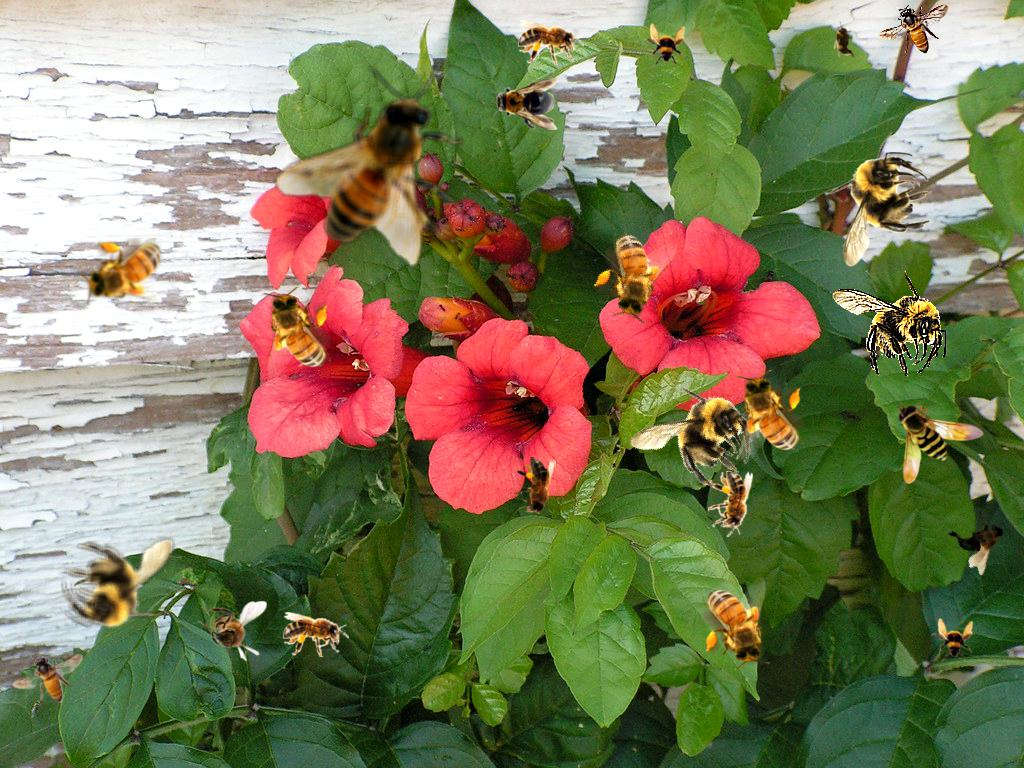Bee: (246, 36, 519, 306), (617, 361, 772, 514), (47, 503, 194, 654), (825, 152, 932, 267), (832, 270, 947, 377), (582, 216, 684, 331), (896, 402, 984, 484), (939, 498, 1020, 580), (81, 238, 174, 306), (702, 577, 770, 670), (736, 370, 804, 463), (263, 287, 331, 380), (197, 601, 267, 662), (12, 653, 83, 703), (878, 4, 949, 54), (491, 78, 559, 130), (518, 20, 584, 65), (511, 457, 556, 523), (283, 612, 349, 657), (708, 471, 753, 537), (931, 618, 975, 662), (643, 23, 687, 67), (831, 20, 857, 62)
